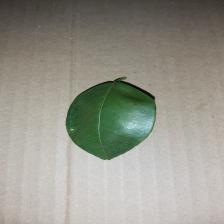healthy: (66, 80, 158, 162)
